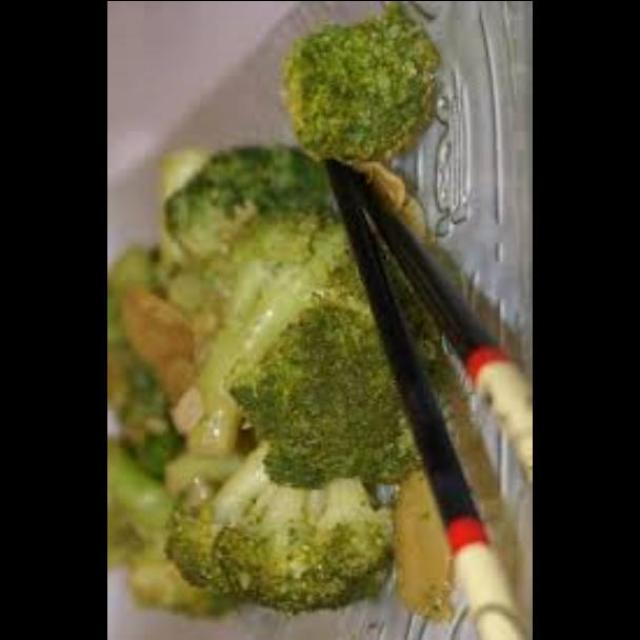Broccoli: (140, 98, 414, 632), (258, 0, 441, 177)
